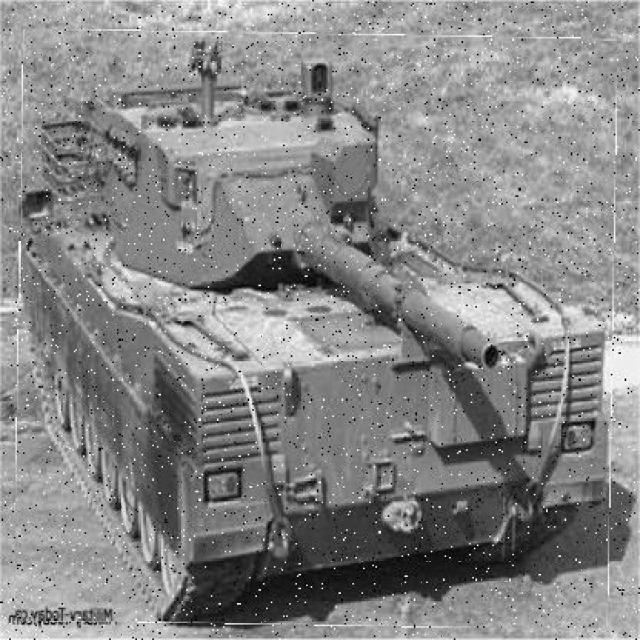Tank: (17, 33, 617, 629)
